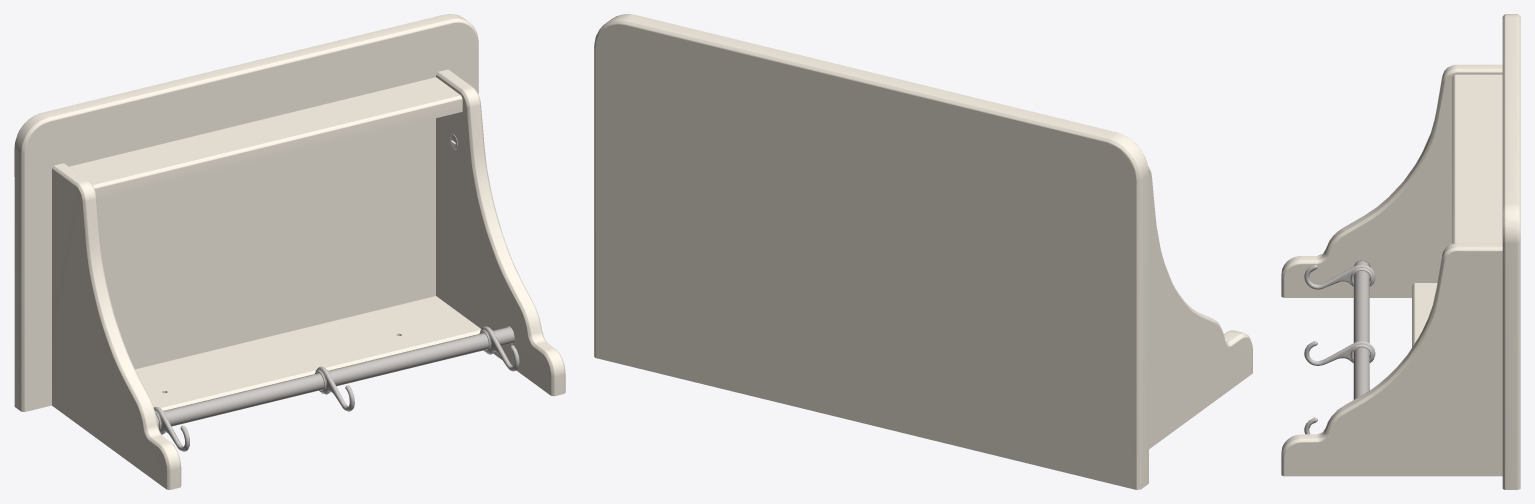
Rendered from tornviken_poka_scienna_80393517.glb.
3 renders of one model, left to right at view 1: azimuth 30°, elevation 25°; view 2: azimuth 150°, elevation 25°; view 3: azimuth 270°, elevation 25°, orthographic. The views are drawn at different scales.
Visible parts, largest first — view 1: tornviken_poka_scienna_80393517; view 2: tornviken_poka_scienna_80393517; view 3: tornviken_poka_scienna_80393517.
Part boxes in pixels (x1,y1,x2,y2): tornviken_poka_scienna_80393517: (14, 14, 565, 489); tornviken_poka_scienna_80393517: (594, 14, 1252, 489); tornviken_poka_scienna_80393517: (1281, 14, 1520, 489).
Bounding box in the file's own units: 0.5 × 0.3004 × 0.238.
Materials: 1 (1 with a texture image).
